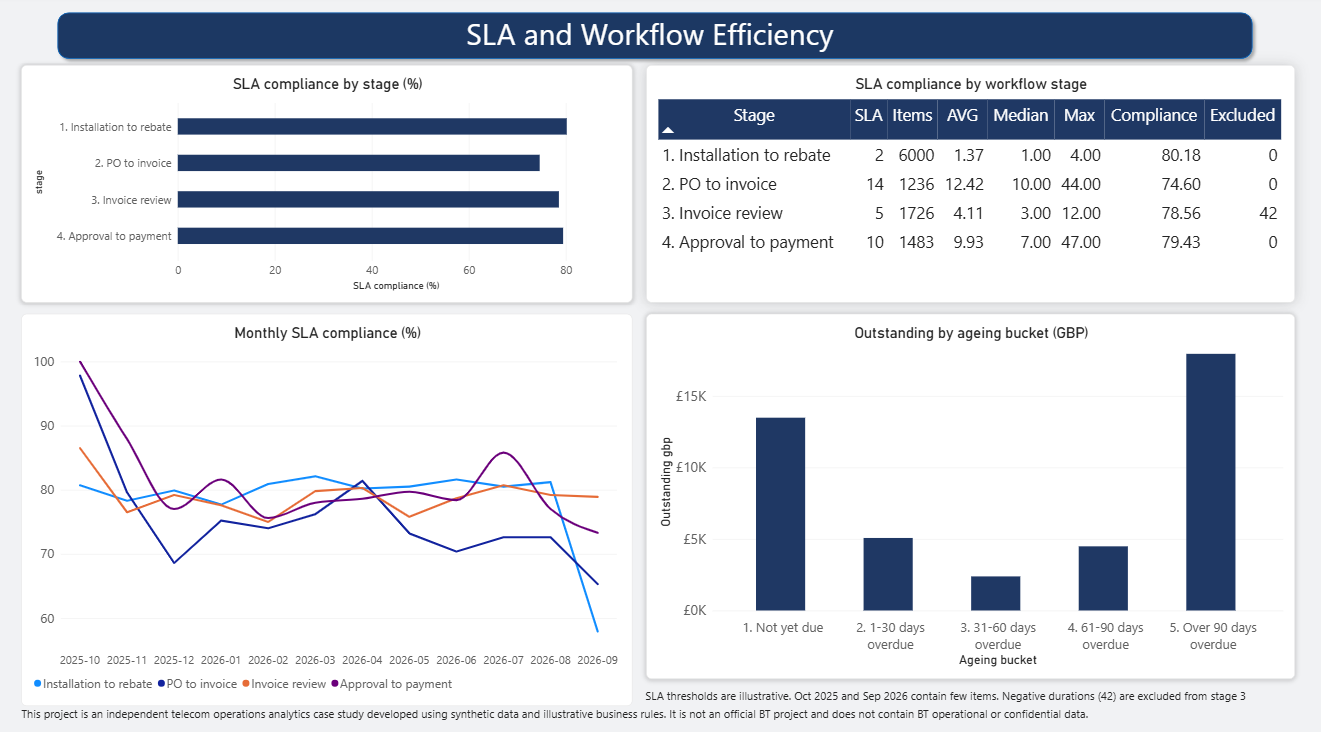

The dashboard page shown, as its layout file describes it:
{"tool":"powerbi","page":{"name":"4 SLA and Workflow","canvas":[1920,1080],"ordinal":3},"visuals":[{"type":"tableEx","title":"SLA compliance by workflow stage","fields":{"Values":["sla_summary.stage","sla_summary.sla_days","sla_summary.items_measured","sla_summary.avg_days","sla_summary.median_days","sla_summary.max_days","sla_summary.sla_compliance_pct","sla_summary.excluded_negative"]},"box":[935.6,101.3,939.2,343.8],"z":0},{"type":"clusteredBarChart","title":"SLA compliance by stage (%)","fields":{"Category":["sla_summary.stage"],"Y":["Sum(sla_summary.sla_compliance_pct)"]},"box":[30.8,101.3,884.9,343.8],"z":1000},{"type":"lineChart","title":"Monthly SLA compliance (%)","fields":{"Category":["sla_monthly.period_month"],"Y":["Avg(sla_monthly.s1_pct)","Avg(sla_monthly.s2_pct)","Avg(sla_monthly.s3_pct)","Avg(sla_monthly.s4_pct)"]},"box":[30.8,461.5,884.9,568.2],"z":2000},{"type":"clusteredColumnChart","title":"Outstanding by ageing bucket (GBP)","fields":{"Category":["ageing.ageing_bucket"],"Y":["Sum(ageing.outstanding_gbp)"]},"box":[935.6,461.5,939.2,528.4],"z":3000},{"type":"textbox","box":[915.7,1002.6,906.6,27.1],"z":4000},{"type":"shape","box":[74.2,16.3,1748.1,85.1],"z":5000},{"type":"textbox","box":[675,25.3,993.5,94.1],"z":6000},{"type":"textbox","box":[30.8,1029.7,1668.5,36.2],"z":7000}]}

Visuals, with their boxes in screenshot pixels (x1, y1, x2, y2), scaled from the page's 1920x1080 canvas onto the 1321x732 screenshot:
"SLA compliance by workflow stage" tableEx: (644, 69, 1290, 302)
"SLA compliance by stage (%)" clusteredBarChart: (21, 69, 630, 302)
"Monthly SLA compliance (%)" lineChart: (21, 313, 630, 698)
"Outstanding by ageing bucket (GBP)" clusteredColumnChart: (644, 313, 1290, 671)
textbox: (630, 680, 1254, 698)
shape: (51, 11, 1254, 69)
textbox: (464, 17, 1148, 81)
textbox: (21, 698, 1169, 722)
